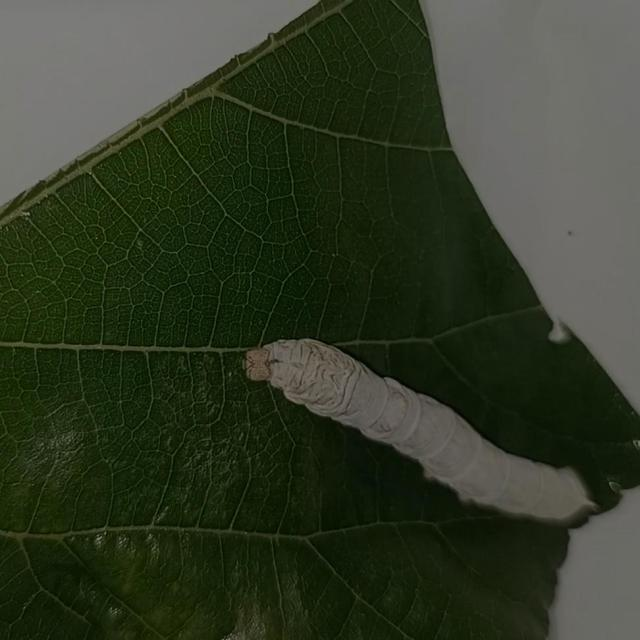Healthy: (237, 321, 597, 532)
